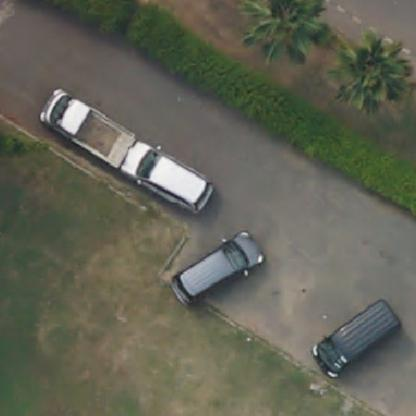car: (170, 232, 263, 308), (121, 142, 214, 213), (316, 297, 398, 373)
truck: (41, 87, 132, 171)
